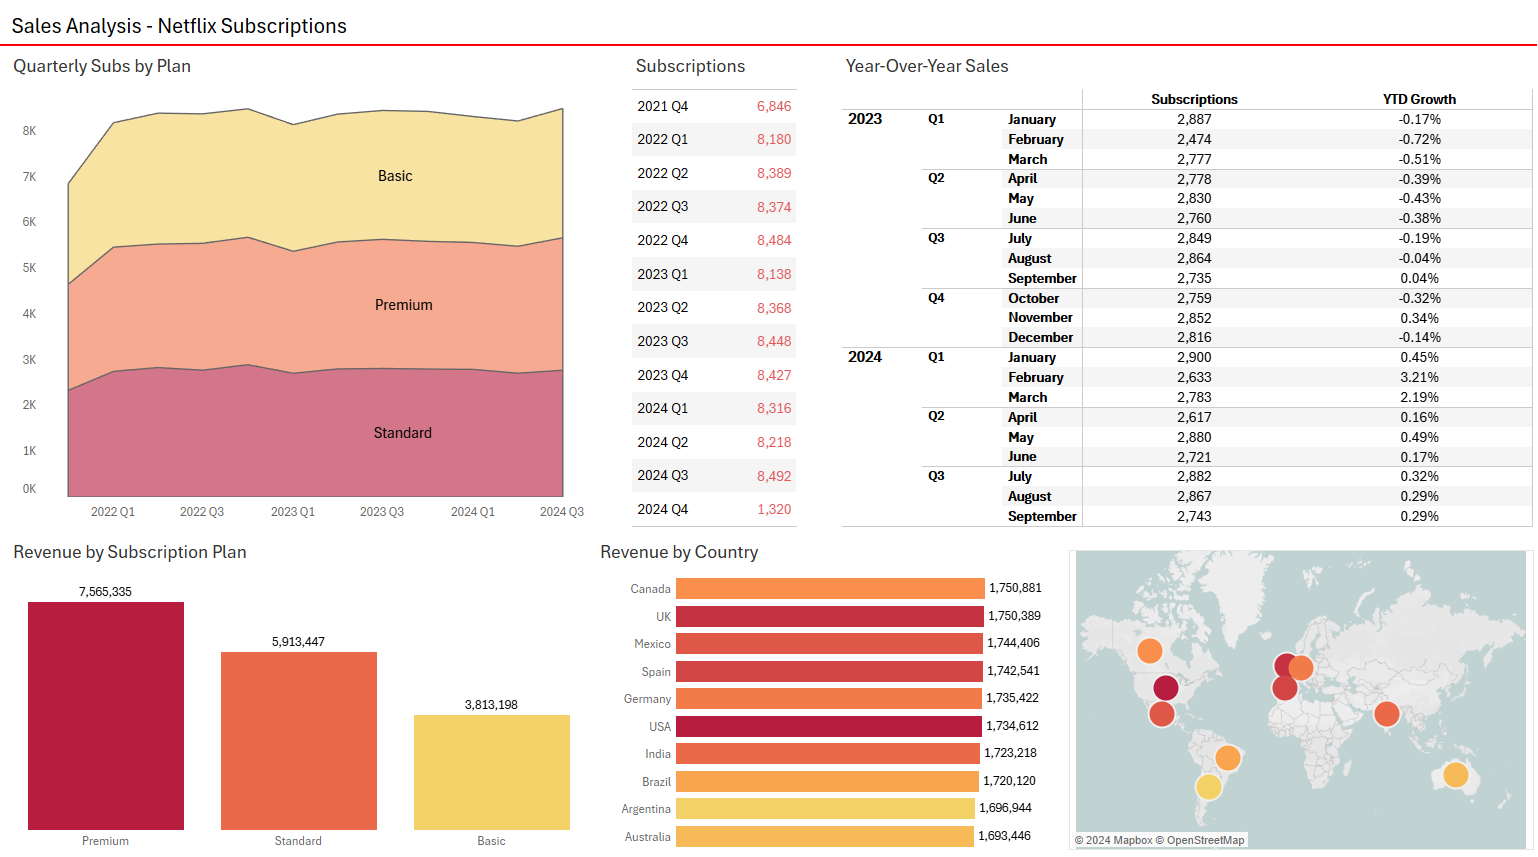

Layout of this report page (visuals, bound fields, positions):
{"tool":"tableau","page":{"name":"Sales - Dashboard","canvas":[1000,1000],"units":"permille","ordinal":1},"visuals":[{"type":"text","box":[4.7,9.3,990.6,45.1]},{"type":"worksheet","title":"Quarterly Subs by Plan","mark":"Area","rows":["user_id"],"cols":["subscription_start_date"],"box":[4.7,54.4,343.5,562.5]},{"type":"worksheet","title":"Quarterly Subs Count","mark":"Automatic","rows":["subscription_start_date"],"box":[369.2,54.4,122.9,562.5]},{"type":"worksheet","title":"YOY Sales","mark":"Automatic","rows":["subscription_start_date","subscription_start_date","subscription_start_date"],"box":[492.1,54.4,409.6,562.5]},{"type":"legend","title":"Revenue by Plan","param":"[federated.0hpvcg816rvf5f11zhlsb12sjsxf].[sum:total_revenue:qk]","box":[901.7,54.4,93.6,75.2]},{"type":"legend","title":"Quarterly Subs by Plan","param":"[federated.0hpvcg816rvf5f11zhlsb12sjsxf].[none:subscription_plan:nk]","box":[901.7,129.6,93.6,98.4]},{"type":"worksheet","title":"Revenue by Plan","mark":"Automatic","rows":["total_revenue"],"cols":["subscription_plan"],"box":[4.7,616.9,343.5,373.8]},{"type":"worksheet","title":"Revenue by Country","mark":"Automatic","rows":["country"],"cols":["total_revenue"],"box":[348.2,616.9,276.8,373.8]},{"type":"worksheet","title":"Revenue by Country - Map","mark":"Automatic","box":[624.9,616.9,276.8,373.8]}]}

Visuals, with their boxes on the dashboard's canvas, which has no fixed pixel size, in thousandths of its width and height (x1, y1, x2, y2). These are canvas units, not pixel positions in the 1538x857 screenshot, which may show the page scaled, cropped or inside an application window:
text: detection(5, 9, 995, 54)
"Quarterly Subs by Plan" worksheet (Area marks): detection(5, 54, 348, 617)
"Quarterly Subs Count" worksheet: detection(369, 54, 492, 617)
"YOY Sales" worksheet: detection(492, 54, 902, 617)
"Revenue by Plan" legend: detection(902, 54, 995, 130)
"Quarterly Subs by Plan" legend: detection(902, 130, 995, 228)
"Revenue by Plan" worksheet: detection(5, 617, 348, 991)
"Revenue by Country" worksheet: detection(348, 617, 625, 991)
"Revenue by Country - Map" worksheet: detection(625, 617, 902, 991)
